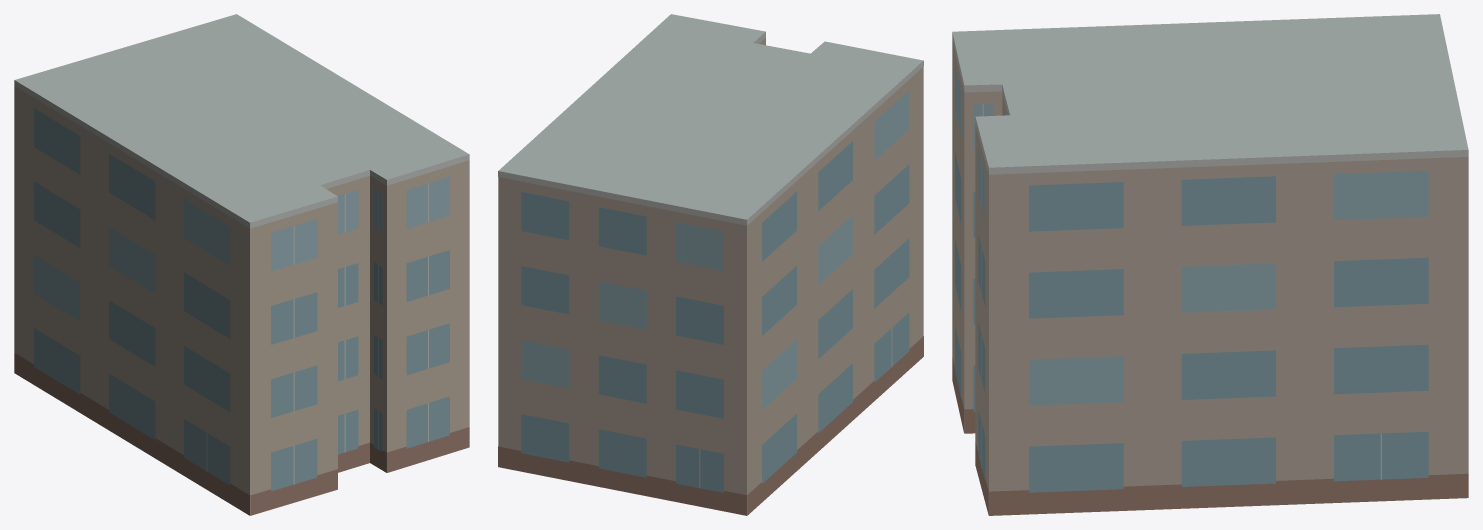
The model's file is survey-upis-32620520.glb.
3 renders of one model, left to right at view 1: azimuth 30°, elevation 25°; view 2: azimuth 150°, elevation 25°; view 3: azimuth 270°, elevation 25°, orthographic. The views are drawn at different scales.
Parts seen in each view (by area): view 1: survey-upis-32620520.tmp; view 2: survey-upis-32620520.tmp; view 3: survey-upis-32620520.tmp.
Boxes of the visible parts, x1,y1,x2,y2 form: survey-upis-32620520.tmp: (14,14,469,515); survey-upis-32620520.tmp: (498,14,923,515); survey-upis-32620520.tmp: (952,14,1468,515).
Bounding box in the file's own units: 11.56 × 12.2 × 16.41.
